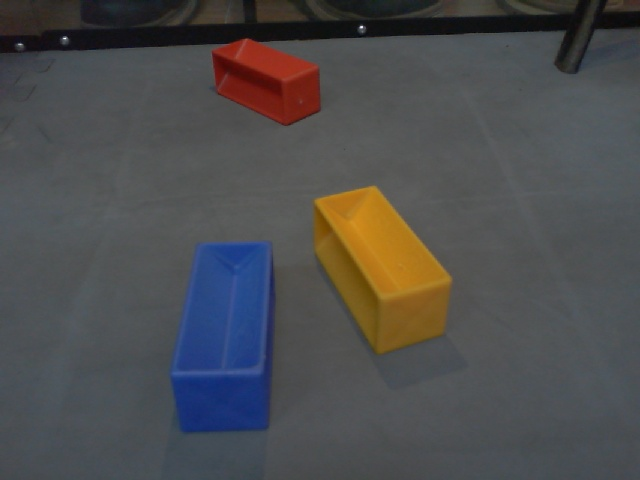BlueSample: (167, 239, 277, 435)
RedSample: (211, 36, 323, 128)
YellowSample: (310, 183, 454, 356)
